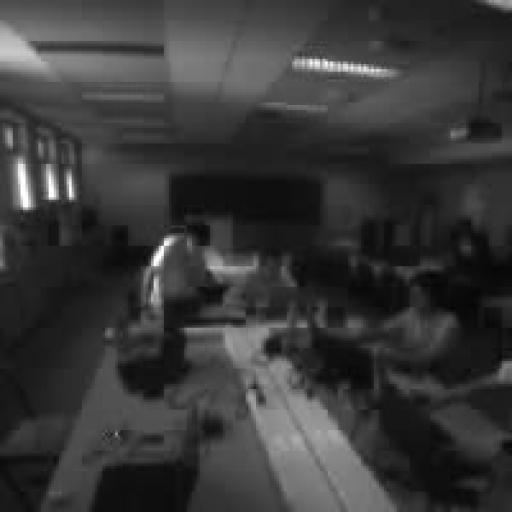human: (308, 272, 460, 373), (140, 219, 210, 309), (410, 350, 512, 410), (223, 251, 296, 309)
